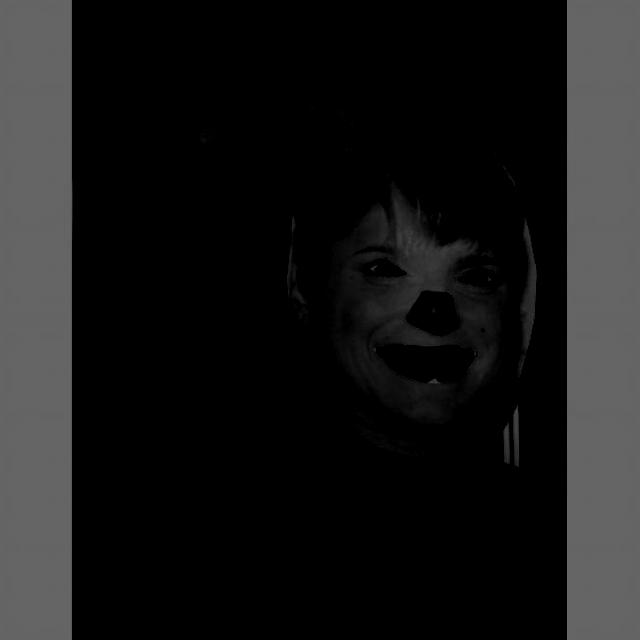fake: (282, 105, 541, 464)
